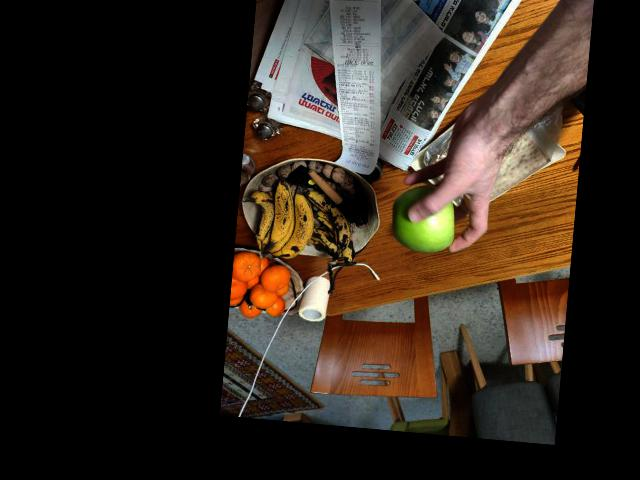apple: (387, 182, 458, 254)
